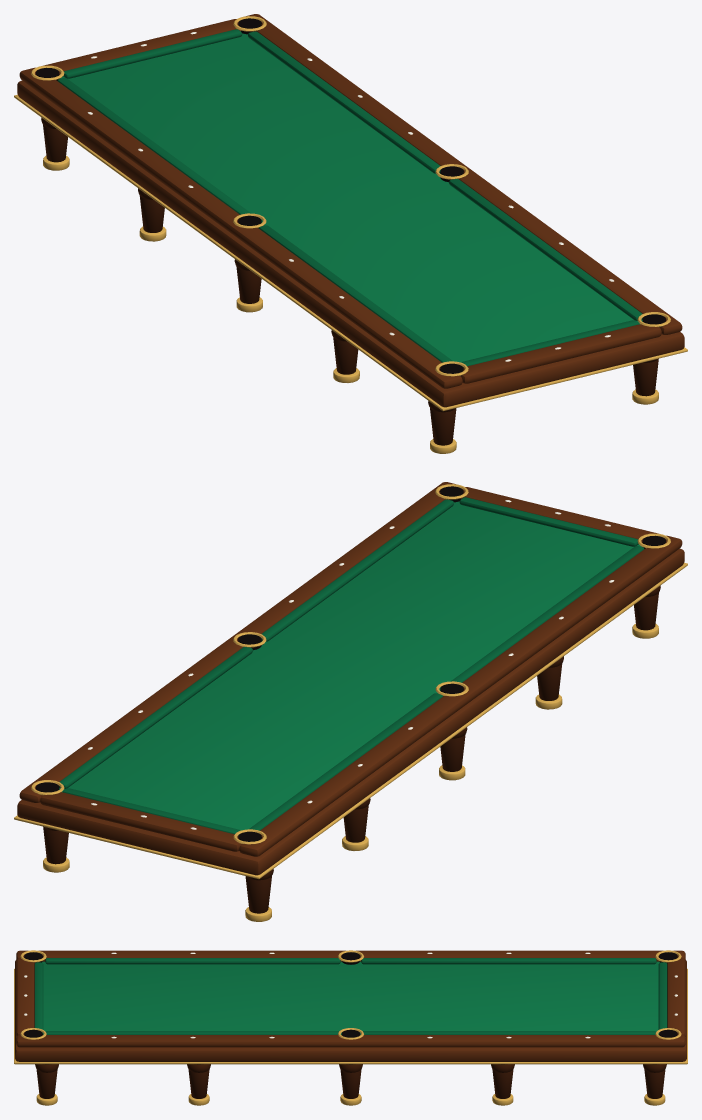
File: PlazaTable7.fbx
3 renders of one model, top to bottom at view 1: azimuth 30°, elevation 25°; view 2: azimuth 150°, elevation 25°; view 3: azimuth 270°, elevation 25°, orthographic. The views are drawn at different scales.
Visible parts, largest first — view 1: PlazaTable7; view 2: PlazaTable7; view 3: PlazaTable7.
Part boxes in pixels (x1,y1,x2,y2): PlazaTable7: (14, 14, 687, 453); PlazaTable7: (14, 482, 687, 921); PlazaTable7: (14, 950, 687, 1105).
Size of the model in its own units: 962 by 326 by 2912.
